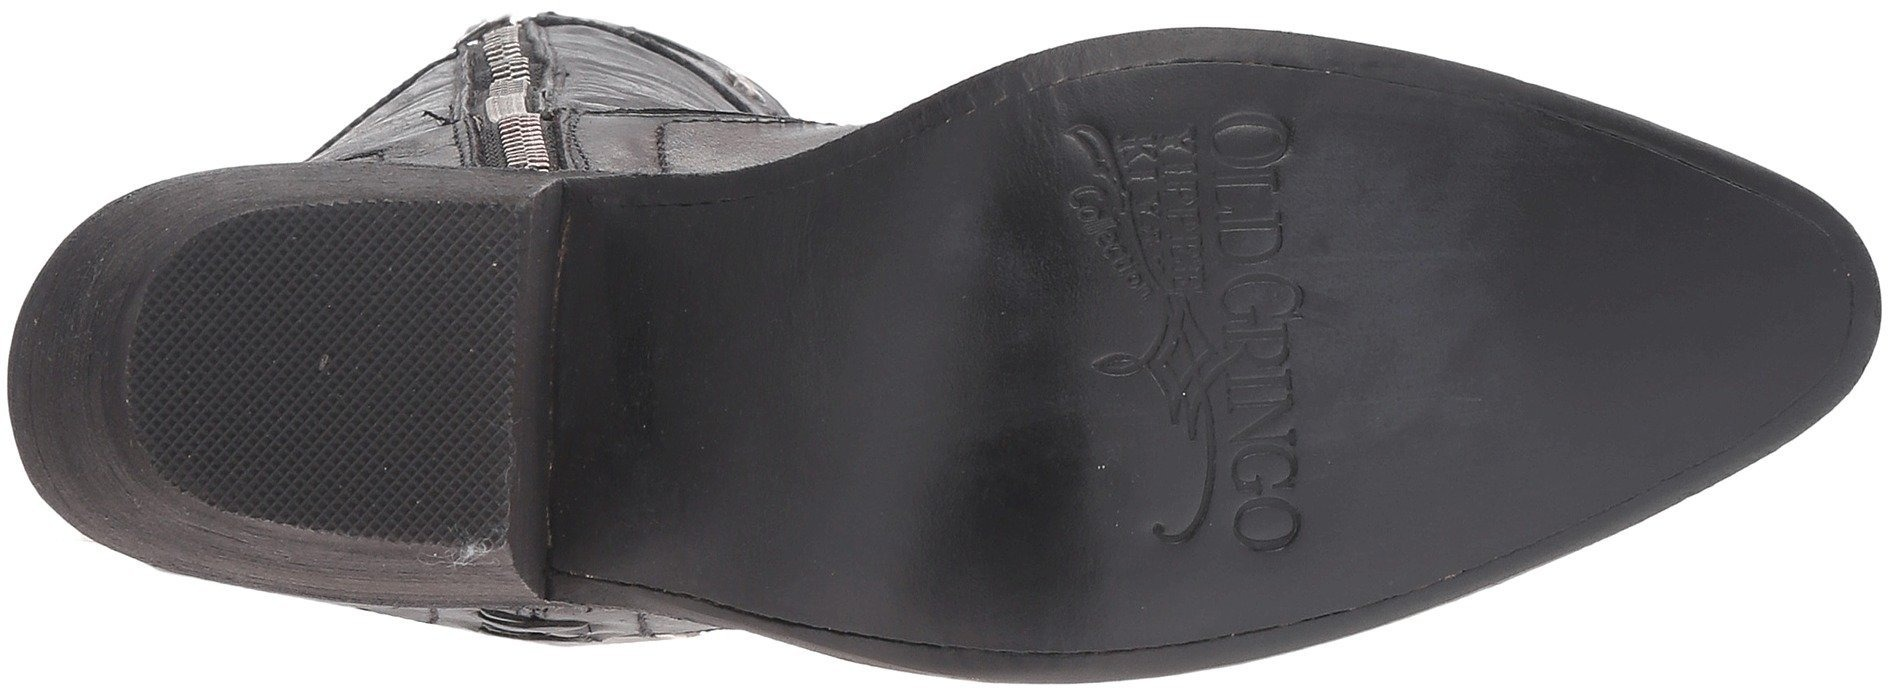exclude: (550, 87, 963, 675)
other: (136, 204, 524, 548)
text: (1206, 105, 1329, 561)
